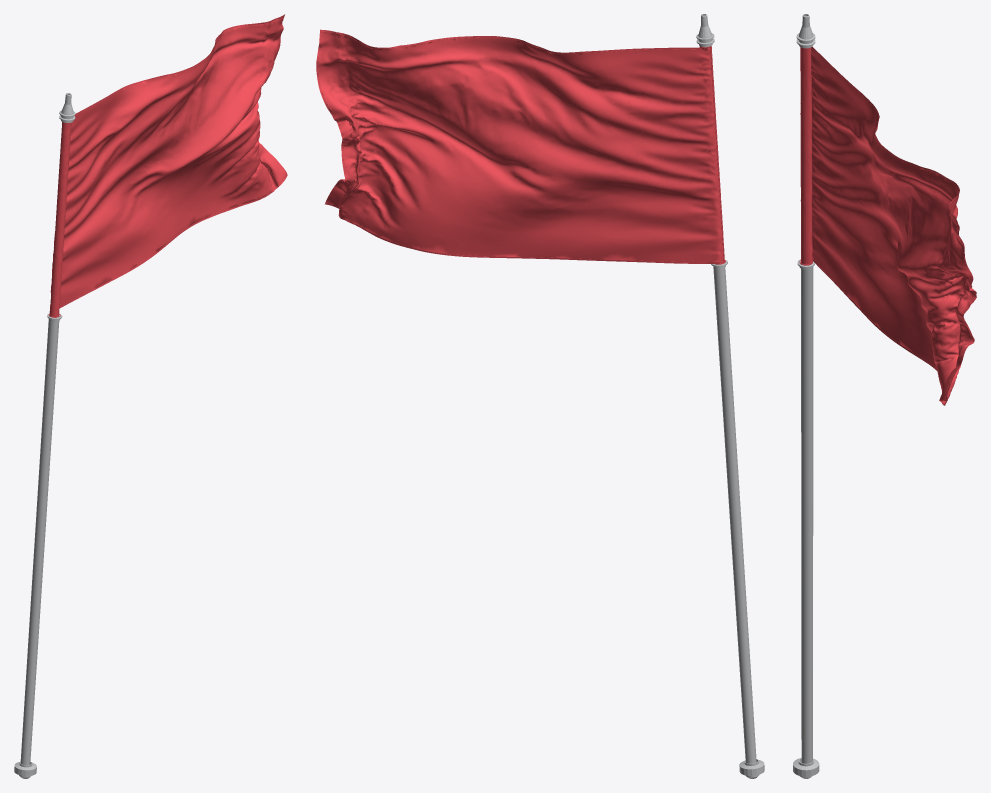
The model's file is enemyFlag.fbx.
3 renders of one model, left to right at view 1: azimuth 30°, elevation 25°; view 2: azimuth 150°, elevation 25°; view 3: azimuth 270°, elevation 25°, orthographic. The views are drawn at different scales.
Visible parts, largest first — view 1: flag_obj; view 2: flag_obj; view 3: flag_obj.
Part boxes in pixels (x1,y1,x2,y2): flag_obj: (14,14,287,778); flag_obj: (316,14,764,778); flag_obj: (793,14,976,778).
Size of the model in its own units: 373 by 719 by 152.
